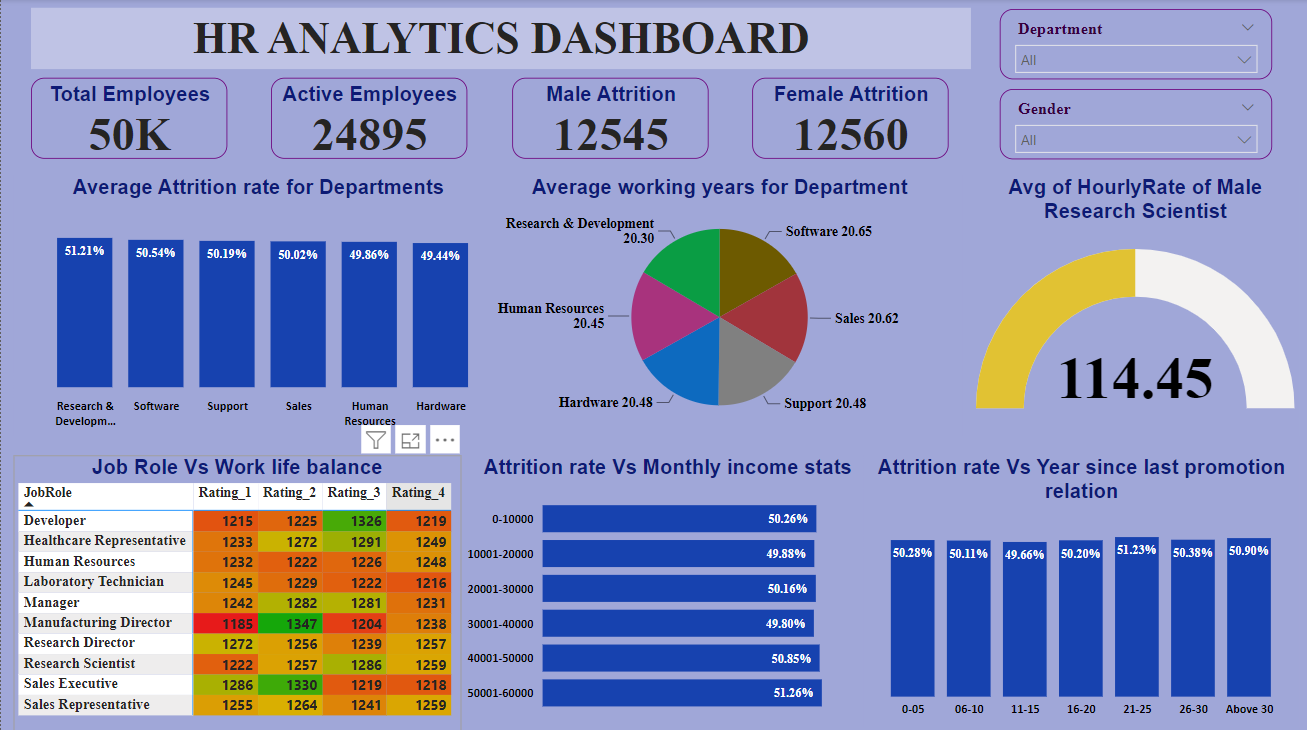

What the dashboard file says about the page in this screenshot:
{"tool":"powerbi","page":{"name":"Page 1","canvas":[1280,720],"ordinal":0},"visuals":[{"type":"gauge","title":"Avg of HourlyRate of Male Research Scientist","fields":{"Y":["Avg(HR_1.HourlyRate)"]},"box":[940,172.4,330.1,255.5],"z":0},{"type":"textbox","box":[29.3,8.6,919.3,59.9],"z":1000},{"type":"card","title":"Total Employees","fields":{"Values":["CountNonNull(HR_1.EmployeeNumber)"]},"box":[29.3,77.3,191.9,79.5],"z":2000},{"type":"columnChart","title":"Average Attrition rate for Departments","fields":{"Category":["HR_1.Department"],"Y":["Avg(HR_1.Att_Rate)"]},"box":[0,172.4,480.4,255.5],"z":3000},{"type":"barChart","title":"Attrition rate Vs Monthly income stats","fields":{"Category":["HR_2.Income Bin"],"Y":["Avg(HR_1.Att_Rate)"]},"box":[449.8,446.2,416.8,265.3],"z":4000},{"type":"pieChart","title":"Average working years for Department","fields":{"Category":["HR_1.Department"],"Y":["Avg(HR_2.TotalWorkingYears)"]},"box":[465.7,172.4,474.3,255.5],"z":5000},{"type":"clusteredColumnChart","title":"Attrition rate Vs Year since last promotion relation","fields":{"Category":["HR_2.Promotion Bin"],"Y":["Avg(HR_1.Att_Rate)"]},"box":[853.2,446.2,426.6,265.3],"z":6000},{"type":"pivotTable","title":"Job Role Vs Work life balance","fields":{"Rows":["HR_1.JobRole"],"Columns":["HR_2.WLBBin"],"Values":["CountNonNull(HR_1.Attrition Count)"]},"box":[14.7,437.6,435.2,273.8],"z":7000},{"type":"card","title":"Active Employees","fields":{"Values":["HR_1.Active Employees"]},"box":[264.4,77.3,191.9,79.5],"z":8000},{"type":"slicer","fields":{"Values":["HR_1.Department"]},"box":[976.7,9.8,266.5,68.5],"z":9000},{"type":"slicer","fields":{"Values":["HR_1.Gender"]},"box":[976.7,88,266.5,68.5],"z":10000},{"type":"card","title":"Male Attrition ","fields":{"Values":["Sum(HR_1.Attrition Count)"]},"box":[499.6,77.3,191.9,79.5],"z":11000},{"type":"card","title":"Female Attrition ","fields":{"Values":["Sum(HR_1.Attrition Count)"]},"box":[734.7,77.3,191.9,79.5],"z":12000}]}

Visuals, with their boxes in screenshot pixels (x1, y1, x2, y2), scaled from the page's 1280x720 canvas onto the 1307x730 screenshot:
"Avg of HourlyRate of Male Research Scientist" gauge: [x1=960, y1=175, x2=1297, y2=434]
textbox: [x1=30, y1=9, x2=969, y2=69]
"Total Employees" card: [x1=30, y1=78, x2=226, y2=159]
"Average Attrition rate for Departments" columnChart: [x1=0, y1=175, x2=491, y2=434]
"Attrition rate Vs Monthly income stats" barChart: [x1=459, y1=452, x2=885, y2=721]
"Average working years for Department" pieChart: [x1=476, y1=175, x2=960, y2=434]
"Attrition rate Vs Year since last promotion relation" clusteredColumnChart: [x1=871, y1=452, x2=1306, y2=721]
"Job Role Vs Work life balance" pivotTable: [x1=15, y1=444, x2=459, y2=721]
"Active Employees" card: [x1=270, y1=78, x2=466, y2=159]
slicer - HR_1.Department: [x1=997, y1=10, x2=1269, y2=79]
slicer - HR_1.Gender: [x1=997, y1=89, x2=1269, y2=159]
"Male Attrition " card: [x1=510, y1=78, x2=706, y2=159]
"Female Attrition " card: [x1=750, y1=78, x2=946, y2=159]
